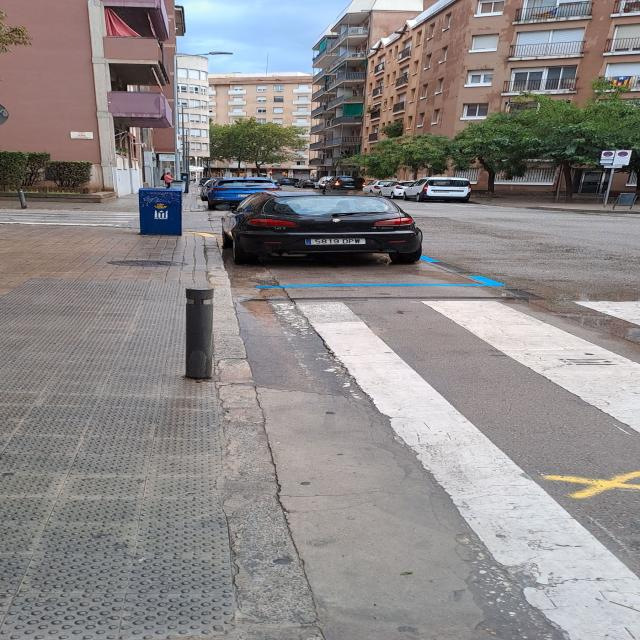license_plate-34Td: (305, 238, 365, 245)
